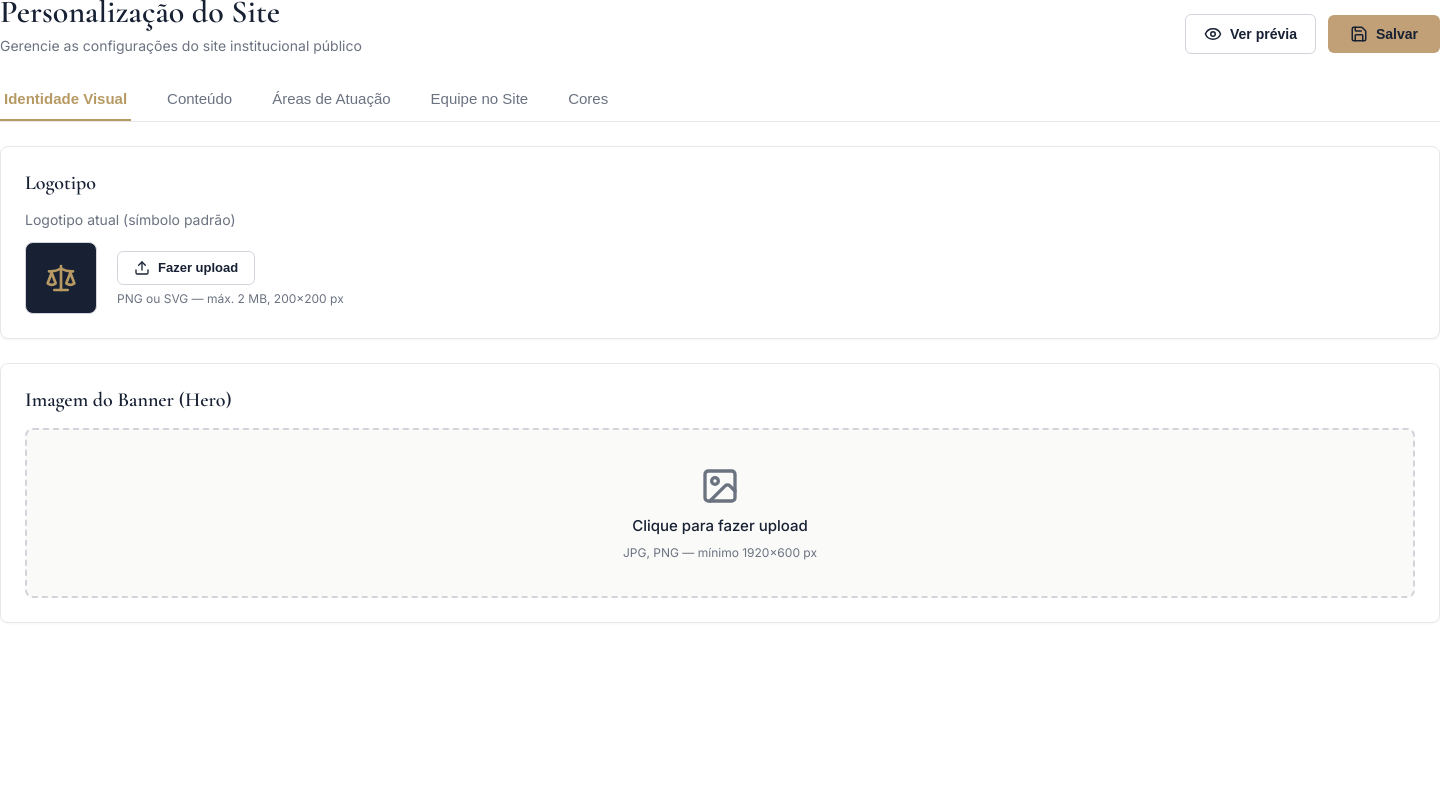
Scenario: Integração: Módulo de Personalização do Site › ativa a aba "Conteúdo" e renderiza a seção "Textos Institucionais"
The width and height of the screenshot is (1440, 802).
Click the tab "Conteúdo" at (200,100), box [163, 78, 236, 121]
(page scrolled)
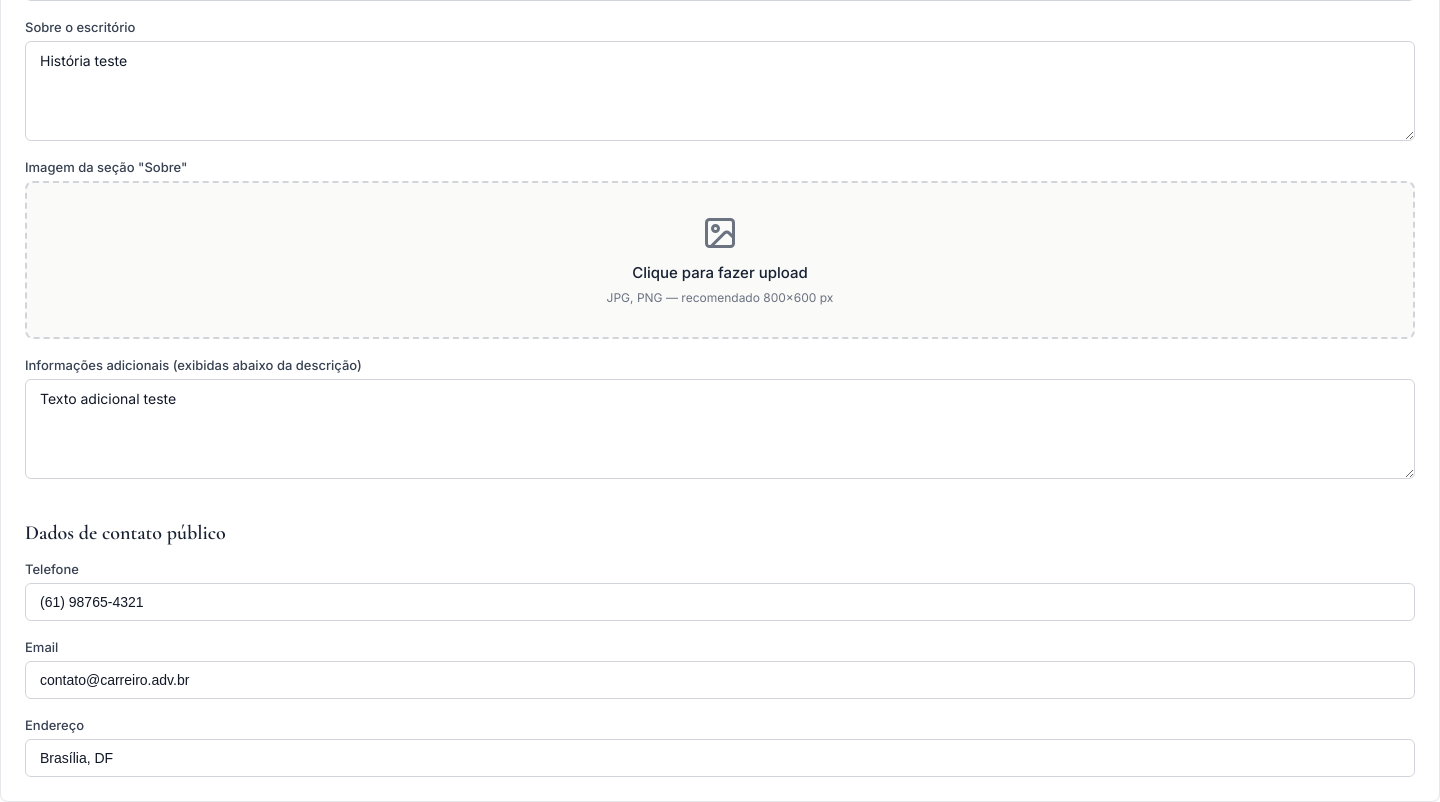
Now the heading "Dados de contato público" is shown, box [25, 521, 226, 545]
